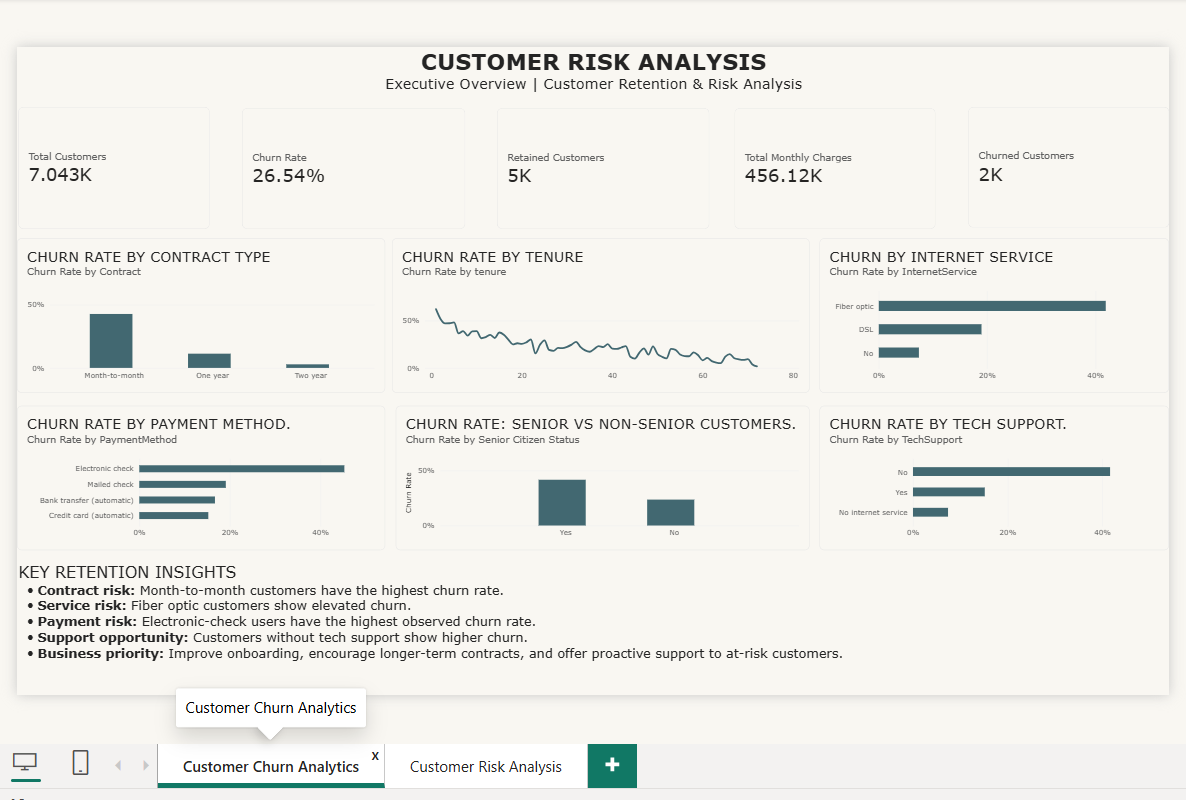

The dashboard page shown, as its layout file describes it:
{"tool":"powerbi","page":{"name":"Customer Churn Analytics","canvas":[1920,1080],"ordinal":0},"visuals":[{"type":"cardVisual","title":"Total Customers","fields":{"Data":["Count(WA_Fn-UseC_-Telco-Customer-Churn.customerID)"]},"box":[2.1,100.9,319,203.8],"z":1000},{"type":"cardVisual","fields":{"Data":["WA_Fn-UseC_-Telco-Customer-Churn.Churn Rate"]},"box":[374.6,102.9,372.6,201.7],"z":2000},{"type":"cardVisual","fields":{"Data":["WA_Fn-UseC_-Telco-Customer-Churn.Retained Customers"]},"box":[800.7,102.9,354,201.7],"z":3000},{"type":"cardVisual","fields":{"Data":["WA_Fn-UseC_-Telco-Customer-Churn.Churned Customers"]},"box":[1584.9,100.9,335.5,201.7],"z":4000},{"type":"cardVisual","fields":{"Data":["WA_Fn-UseC_-Telco-Customer-Churn.Total Monthly Charges"]},"box":[1195.9,102.9,335.5,201.7],"z":5000},{"type":"clusteredColumnChart","title":"CHURN RATE BY CONTRACT TYPE","fields":{"Category":["WA_Fn-UseC_-Telco-Customer-Churn.Contract"],"Y":["WA_Fn-UseC_-Telco-Customer-Churn.Churn Rate"]},"box":[0,319,613.4,257.3],"z":6000},{"type":"clusteredBarChart","title":"CHURN BY INTERNET SERVICE","fields":{"Category":["WA_Fn-UseC_-Telco-Customer-Churn.InternetService"],"Y":["WA_Fn-UseC_-Telco-Customer-Churn.Churn Rate"]},"box":[1337.9,319,582.5,257.3],"z":7000},{"type":"clusteredBarChart","title":"CHURN RATE BY PAYMENT METHOD.","fields":{"Category":["WA_Fn-UseC_-Telco-Customer-Churn.PaymentMethod"],"Y":["WA_Fn-UseC_-Telco-Customer-Churn.Churn Rate"]},"box":[0,596.9,613.4,240.8],"z":8000},{"type":"lineChart","title":"CHURN RATE BY TENURE","fields":{"Category":["WA_Fn-UseC_-Telco-Customer-Churn.tenure"],"Y":["WA_Fn-UseC_-Telco-Customer-Churn.Churn Rate"]},"box":[625.7,319,695.7,257.3],"z":9000},{"type":"clusteredColumnChart","title":"CHURN RATE: SENIOR VS NON-SENIOR CUSTOMERS.","fields":{"Category":["WA_Fn-UseC_-Telco-Customer-Churn.Senior Citizen Status"],"Y":["WA_Fn-UseC_-Telco-Customer-Churn.Churn Rate"]},"box":[631.9,596.9,689.5,240.8],"z":10000},{"type":"clusteredBarChart","title":"CHURN RATE BY TECH SUPPORT.","fields":{"Category":["WA_Fn-UseC_-Telco-Customer-Churn.TechSupport"],"Y":["WA_Fn-UseC_-Telco-Customer-Churn.Churn Rate"]},"box":[1337.9,596.9,582.5,240.8],"z":11000},{"type":"textbox","box":[2,857.3,1821.6,221.9],"z":12000},{"type":"textbox","box":[2.1,0,1918.4,100.9],"z":13000}]}

Visuals, with their boxes on the page's 1920x1080 design canvas (x1, y1, x2, y2). These are canvas units, not pixel positions in the 1186x800 screenshot, which may show the page scaled, cropped or inside an application window:
"Total Customers" cardVisual: [2, 101, 321, 305]
cardVisual - WA_Fn-UseC_-Telco-Customer-Churn.Churn Rate: [375, 103, 747, 305]
cardVisual - WA_Fn-UseC_-Telco-Customer-Churn.Retained Customers: [801, 103, 1155, 305]
cardVisual - WA_Fn-UseC_-Telco-Customer-Churn.Churned Customers: [1585, 101, 1920, 303]
cardVisual - WA_Fn-UseC_-Telco-Customer-Churn.Total Monthly Charges: [1196, 103, 1531, 305]
"CHURN RATE BY CONTRACT TYPE" clusteredColumnChart: [0, 319, 613, 576]
"CHURN BY INTERNET SERVICE" clusteredBarChart: [1338, 319, 1920, 576]
"CHURN RATE BY PAYMENT METHOD." clusteredBarChart: [0, 597, 613, 838]
"CHURN RATE BY TENURE" lineChart: [626, 319, 1321, 576]
"CHURN RATE: SENIOR VS NON-SENIOR CUSTOMERS." clusteredColumnChart: [632, 597, 1321, 838]
"CHURN RATE BY TECH SUPPORT." clusteredBarChart: [1338, 597, 1920, 838]
textbox: [2, 857, 1824, 1079]
textbox: [2, 0, 1920, 101]
